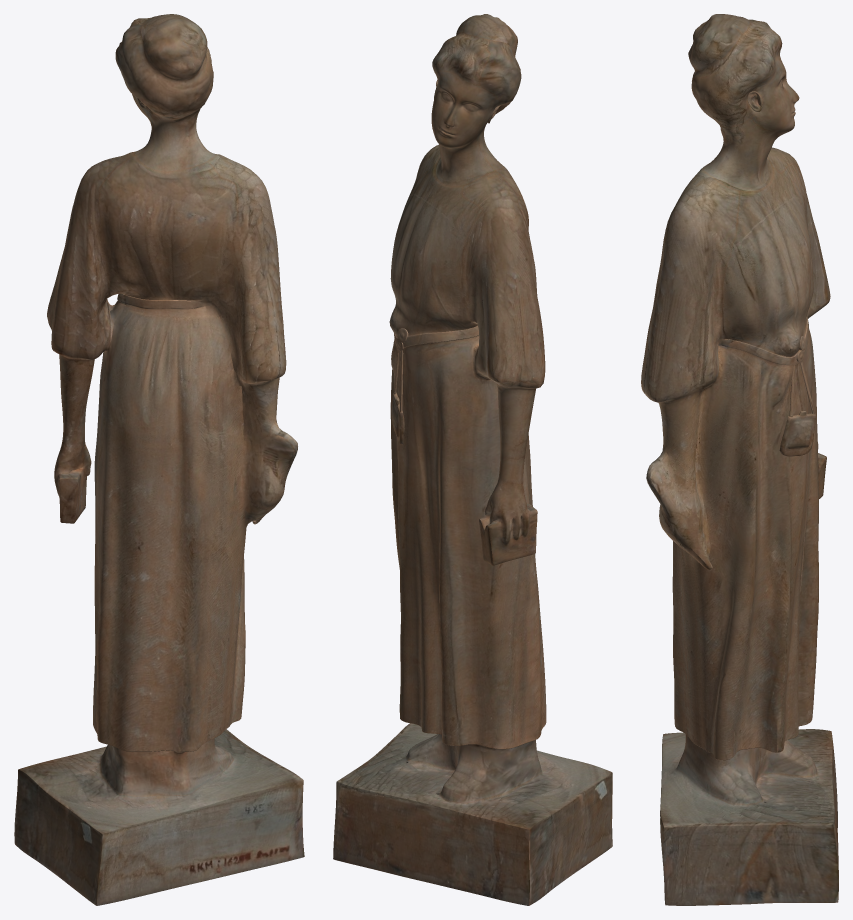
The model's file is eugenie.glb.
3 views of the same model, side by side, from view 1: azimuth 30°, elevation 25°; view 2: azimuth 150°, elevation 25°; view 3: azimuth 270°, elevation 25° (orthographic). The views are drawn at different scales.
Parts seen in each view (by area): view 1: Eugenie; view 2: Eugenie; view 3: Eugenie.
Part boxes in pixels (bbox=[...]): Eugenie: bbox=[14, 14, 304, 905]; Eugenie: bbox=[333, 14, 612, 905]; Eugenie: bbox=[641, 14, 838, 905].
Bounding box in the file's own units: 1.89 × 7.32 × 1.56.
Materials: 1 (1 with a texture image).
